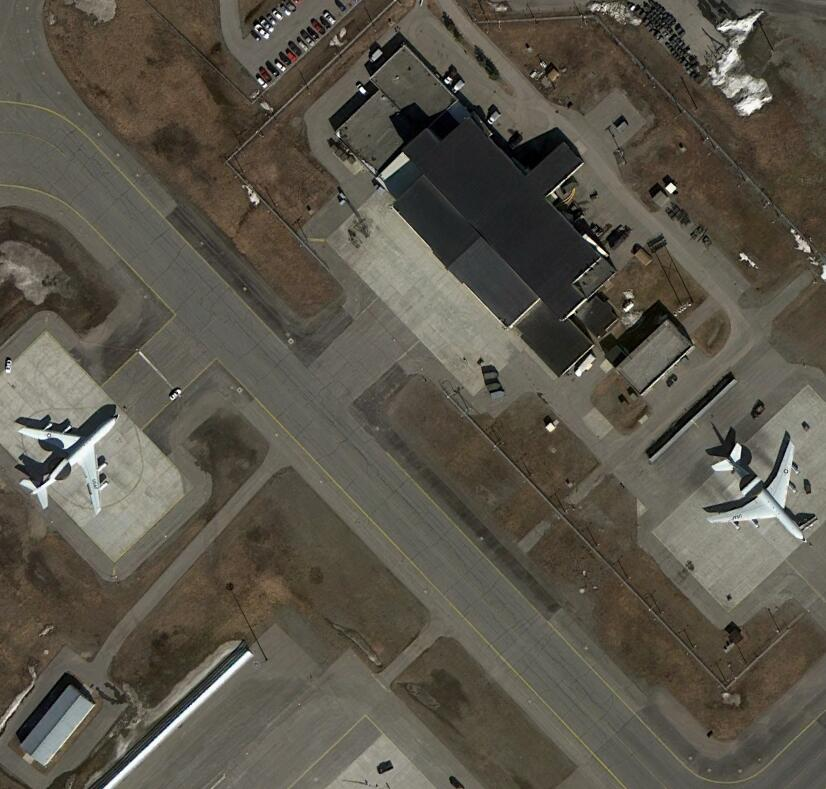A7: (14, 407, 118, 517), (703, 439, 806, 544)
